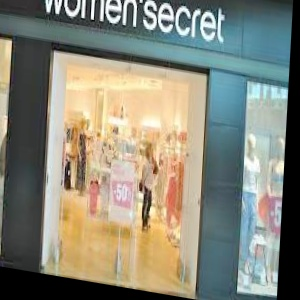women_secret: (193, 0, 269, 31)
